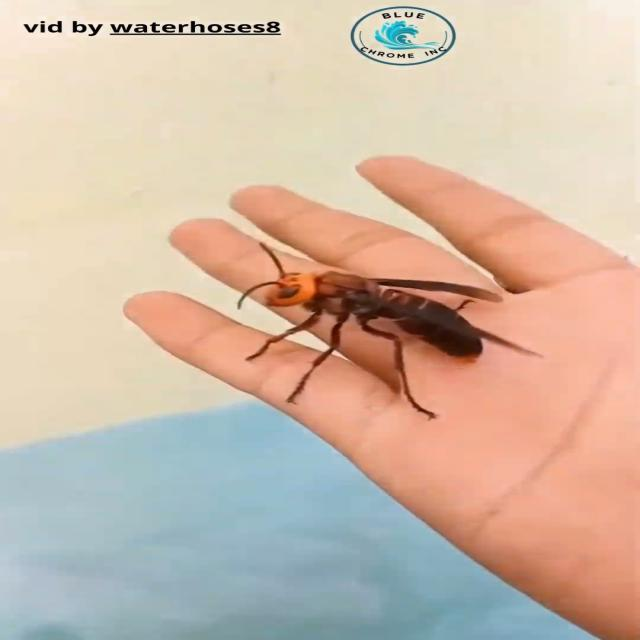Hornets: (236, 238, 551, 420)
